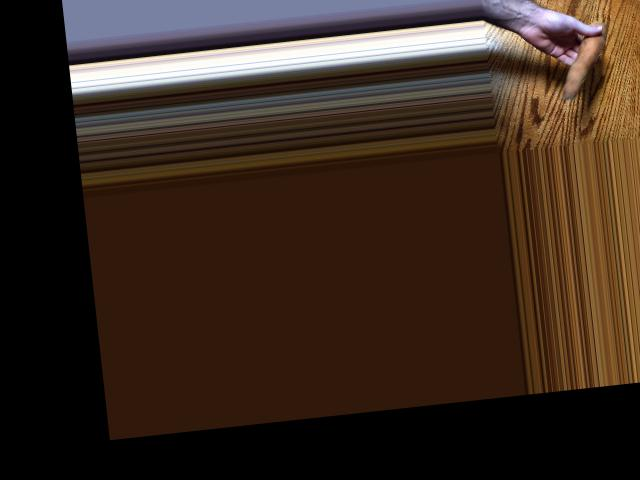sweet_potato: (554, 17, 614, 99)
